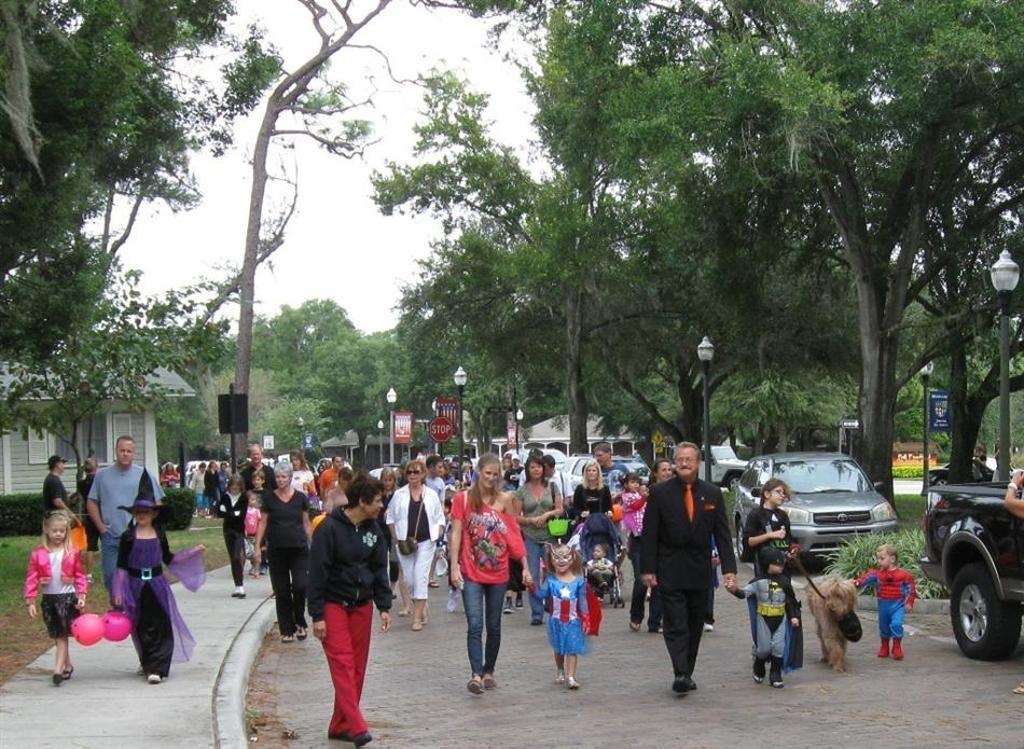human_face: (550, 546, 572, 574), (674, 450, 698, 475), (365, 487, 383, 519), (46, 518, 66, 544), (116, 440, 134, 464), (480, 464, 498, 488), (134, 504, 152, 524), (656, 462, 672, 482), (769, 552, 785, 572), (526, 460, 542, 478), (274, 470, 288, 488), (407, 464, 421, 482), (770, 486, 784, 504), (876, 552, 890, 570), (594, 449, 606, 465), (592, 544, 604, 558), (586, 464, 596, 480), (628, 476, 638, 492), (250, 447, 260, 462), (382, 474, 392, 489), (432, 461, 442, 474), (228, 481, 238, 493), (291, 456, 301, 468), (340, 474, 350, 486), (250, 476, 260, 486), (56, 460, 64, 472), (334, 456, 342, 468), (541, 462, 549, 472), (502, 459, 510, 467), (249, 494, 255, 503), (210, 460, 216, 466), (320, 461, 324, 469), (166, 464, 172, 469), (512, 458, 516, 464), (200, 465, 204, 471), (318, 466, 322, 471), (221, 464, 225, 469)
